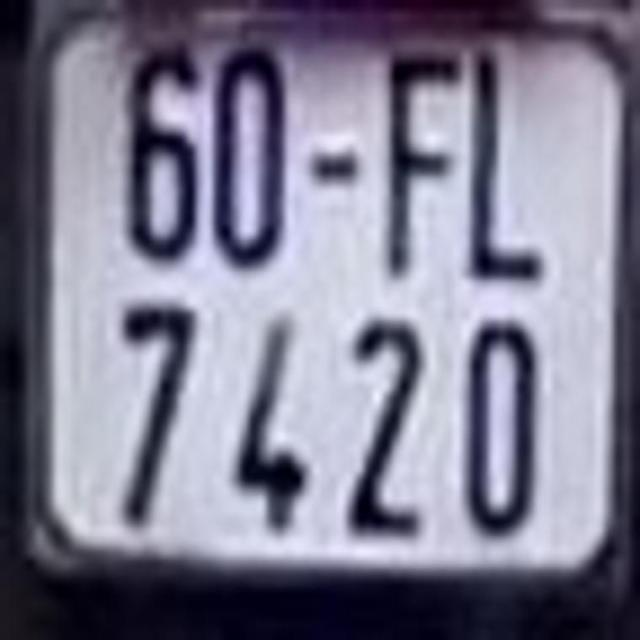0: (458, 305, 548, 536), (213, 25, 293, 272)
2: (350, 287, 430, 538)
4: (234, 296, 313, 536)
6: (122, 29, 201, 268)
7: (117, 293, 199, 520)
F: (370, 32, 460, 275)
L: (466, 39, 553, 290)
